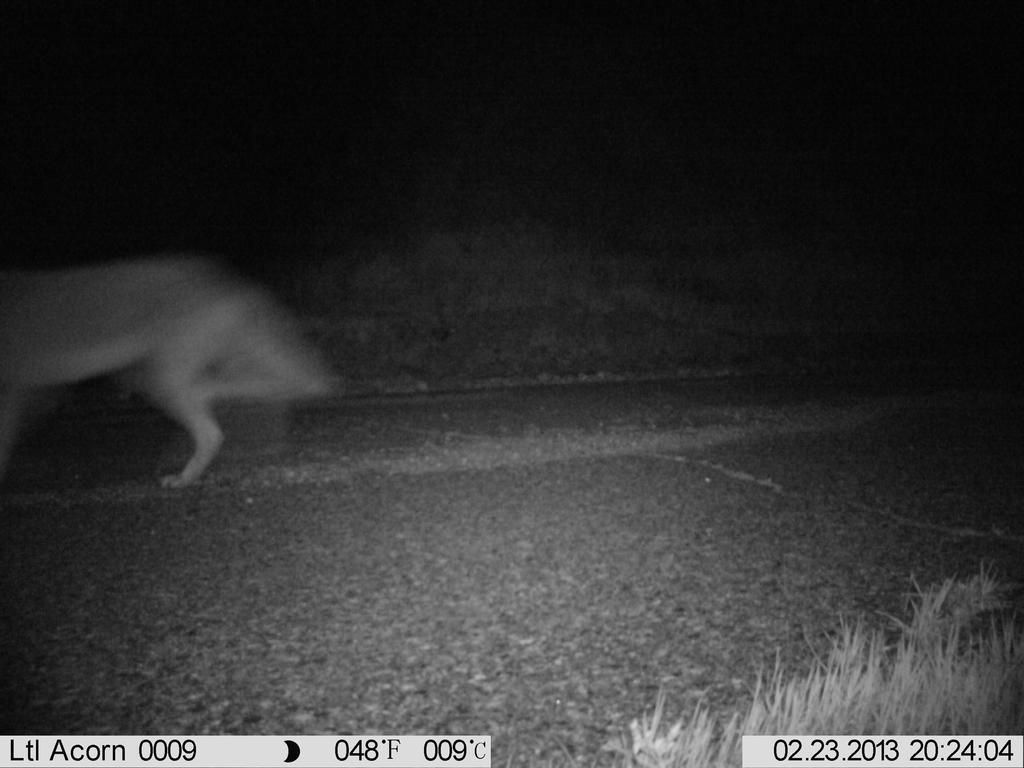coyote: (9, 222, 351, 537)
